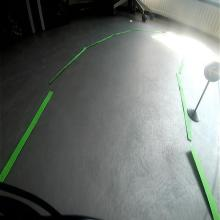left: (204, 59, 220, 84)
